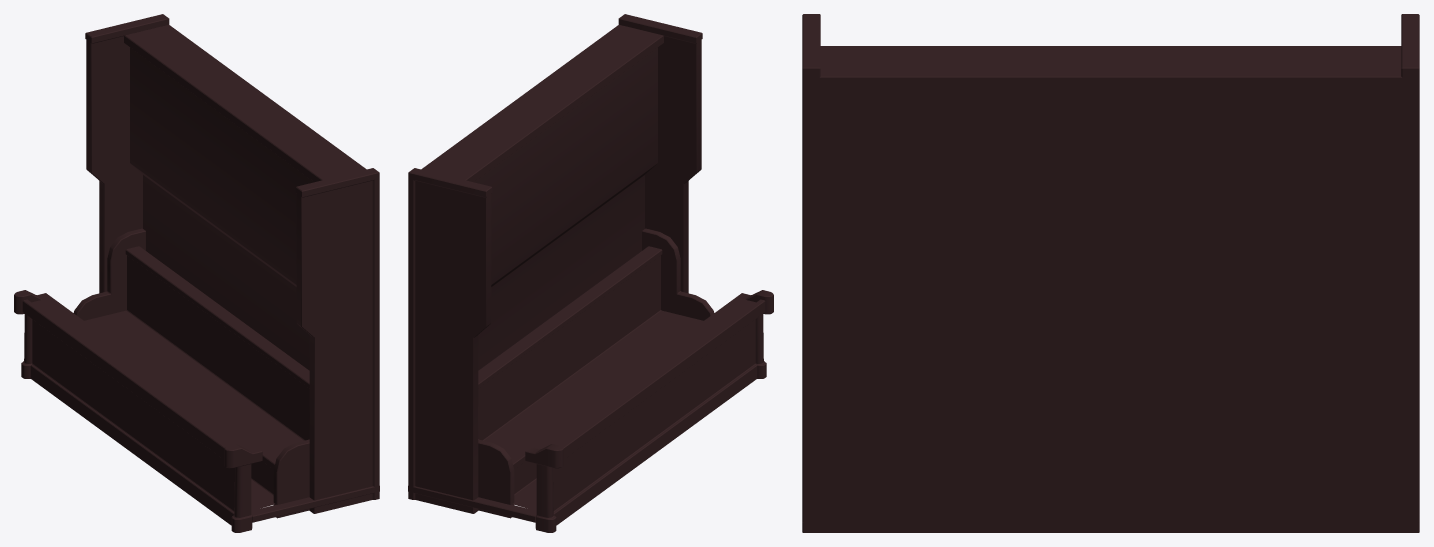
File: Mesh_Banco.fbx
3 views of the same model, side by side, from view 1: azimuth 30°, elevation 25°; view 2: azimuth 150°, elevation 25°; view 3: azimuth 270°, elevation 25° (orthographic). The views are drawn at different scales.
Parts seen in each view (by area): view 1: Bancos.001; view 2: Bancos.001; view 3: Bancos.001.
Part boxes in pixels (x1=…): Bancos.001: x1=14, y1=14, x2=379, y2=532; Bancos.001: x1=408, y1=14, x2=773, y2=532; Bancos.001: x1=802, y1=14, x2=1419, y2=532.
Bounding box in the file's own units: 1165 × 2400 × 2885.
